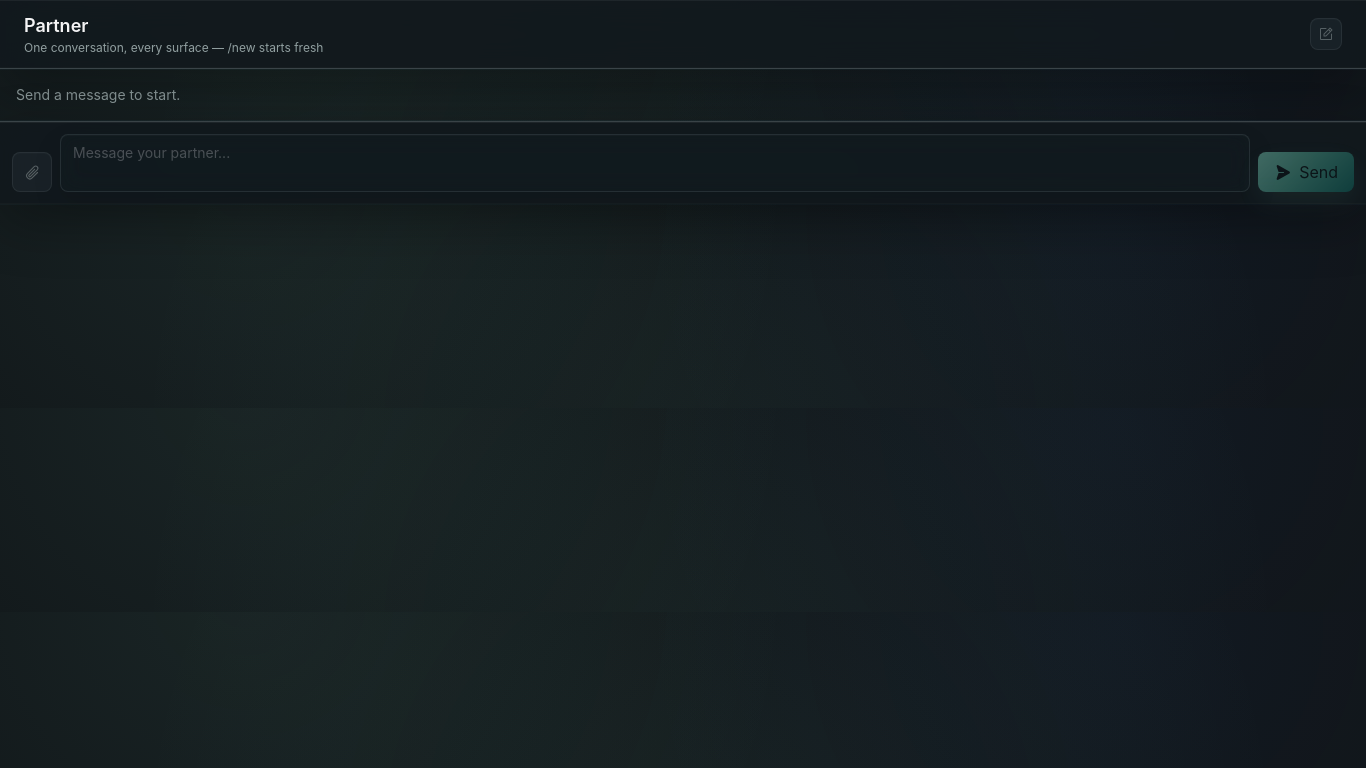
AssistantView › sends foreground messages to the selected Assistant session stream
Type "Run now" into the text box with placeholder "Message your partner..." at (655, 163), box 60,134 -> 1250,192
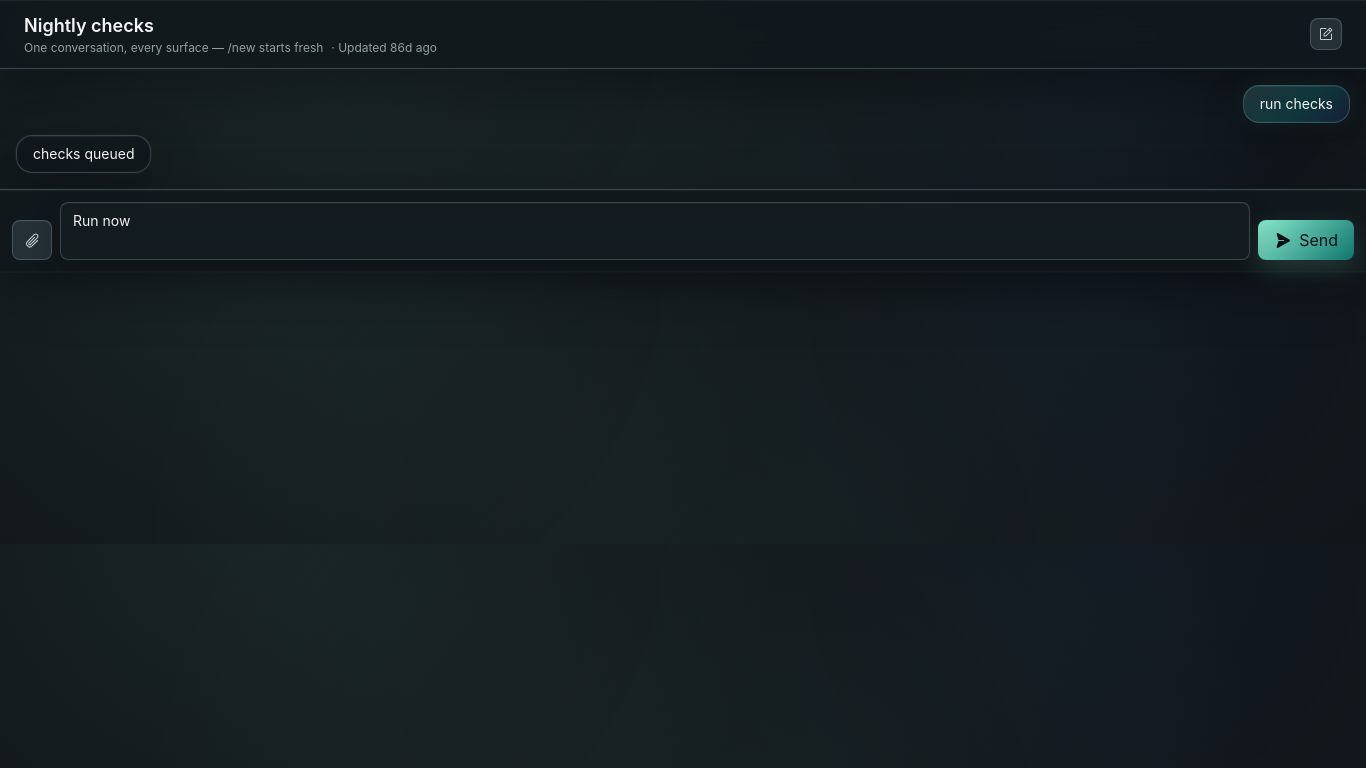
Click the button "Send" at (1306, 240), box 1258,220 -> 1354,260
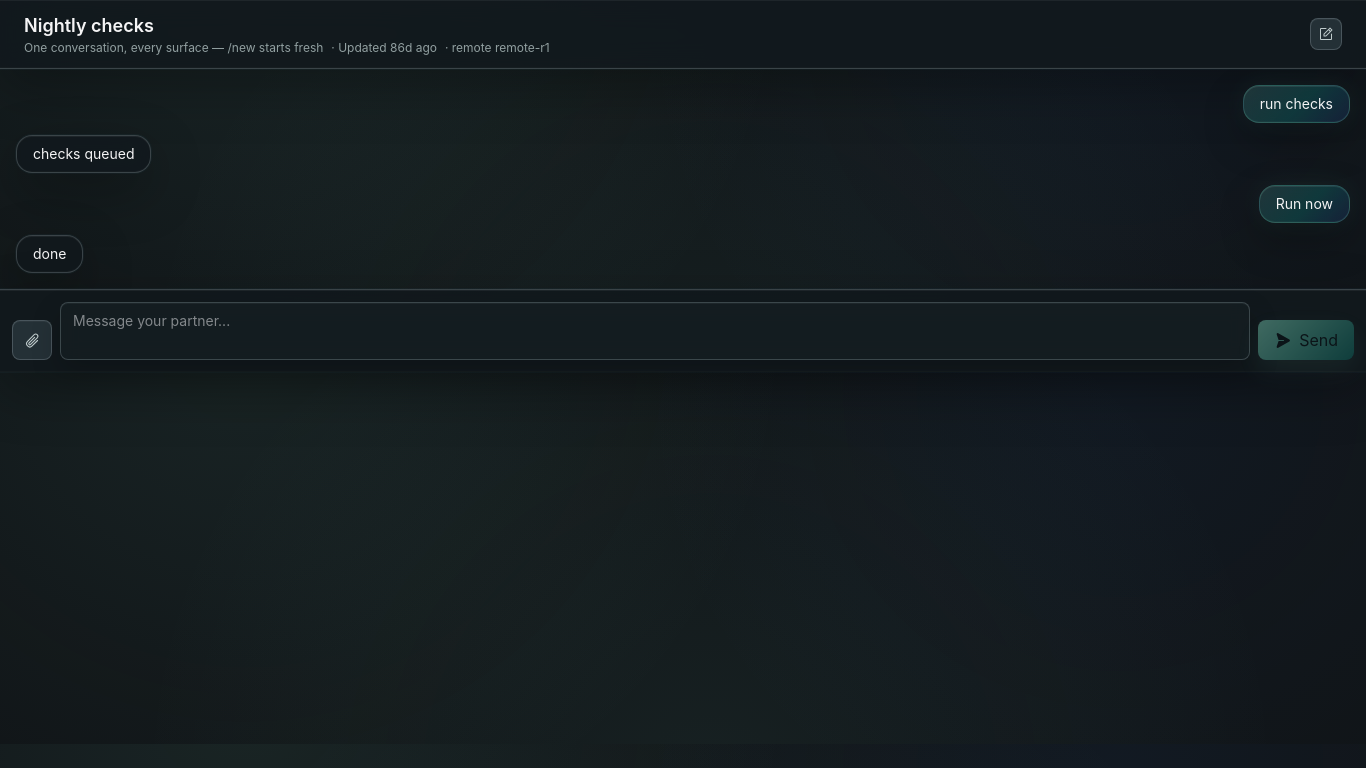
Check: the text "done" is shown, box 33,244 -> 66,264
